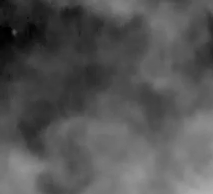Target: (13, 30, 17, 36)
